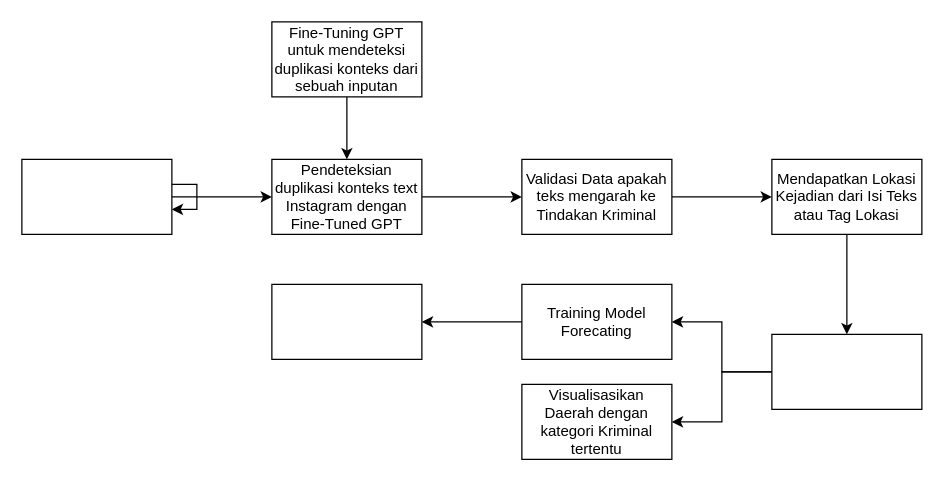
The diagram is 944 pixels wide and 481 high, and some of its shapes have lost their labels. Here are the shapes that lost their labels. From the top down, the centre of each, then its label:
At pixel 96 196: "Pembentukan Dataset dengan Web Scrapping Instagram".
At pixel 346 321: "Evaluasi Model Forecasting".
At pixel 846 371: "Klasifikasi Kejahatan".
